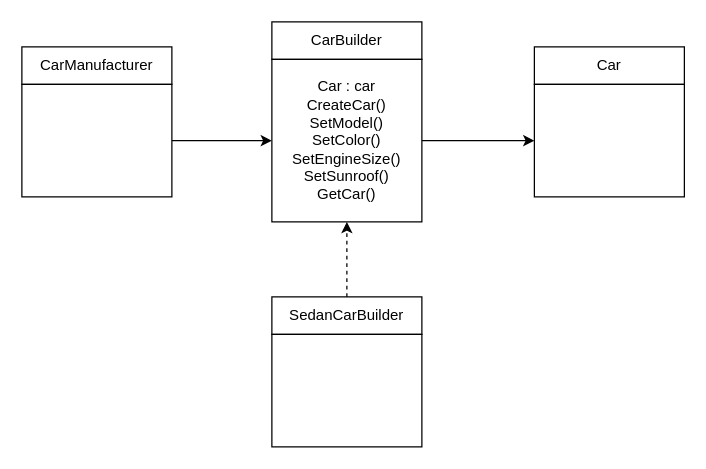
Image size: 706x469. Some labels were removed from this diagram. The box of each missing label's shape, as (x1, y1, x2, y2) in pixels:
CarBuilder builder ConstructCar(): (21, 83, 172, 197)
SetModel() SetColor() SetEngineSize() SetSunroof(): (271, 333, 422, 447)
string : Model string : Color integer : EngineSize bool : HasSunroof Display(): (533, 83, 684, 197)
